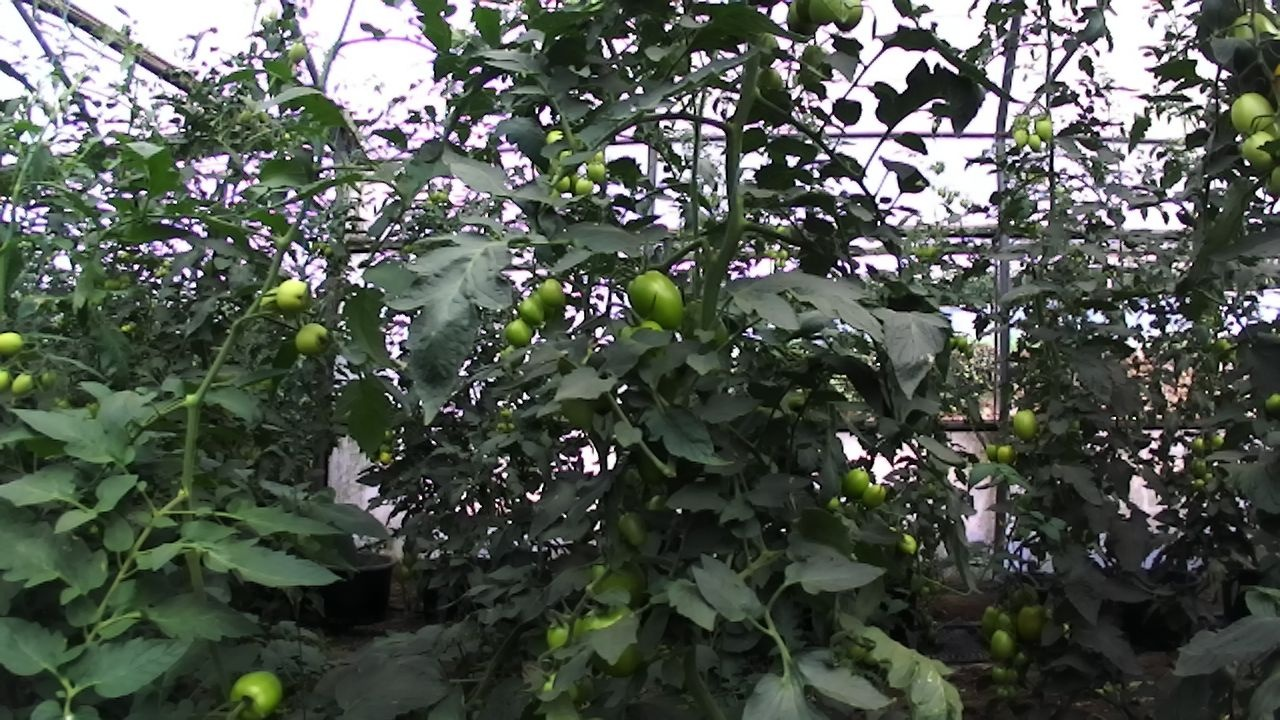tomato: (618, 259, 700, 341), (218, 656, 293, 720), (1221, 78, 1279, 143), (609, 501, 657, 557), (288, 313, 341, 363), (268, 274, 323, 321), (1010, 596, 1057, 649), (1235, 122, 1280, 175), (1005, 400, 1048, 447), (837, 456, 876, 507), (982, 620, 1027, 664), (512, 290, 554, 333), (826, 0, 869, 40), (0, 320, 38, 364), (535, 273, 573, 314), (499, 313, 541, 350), (5, 361, 42, 401), (858, 477, 891, 514), (890, 526, 924, 560), (281, 37, 311, 70), (1030, 114, 1058, 146), (583, 156, 611, 186), (993, 440, 1020, 469), (572, 173, 598, 199), (1009, 123, 1032, 150), (1023, 131, 1045, 154)
